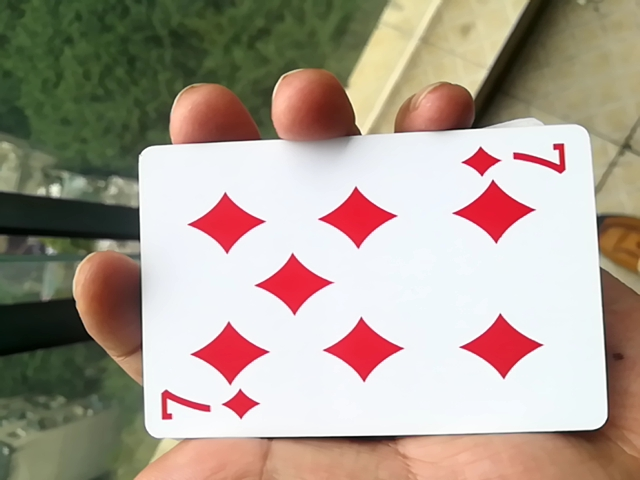fk 7: (127, 128, 605, 451)
